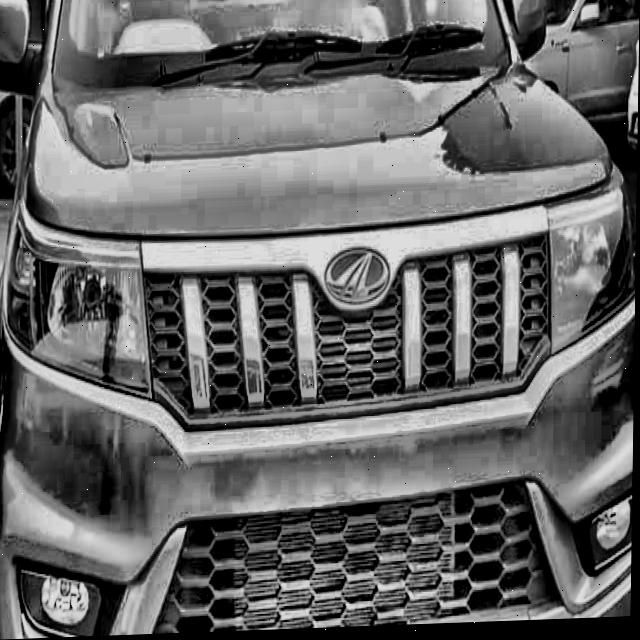light_vehicle: (7, 0, 640, 640)
